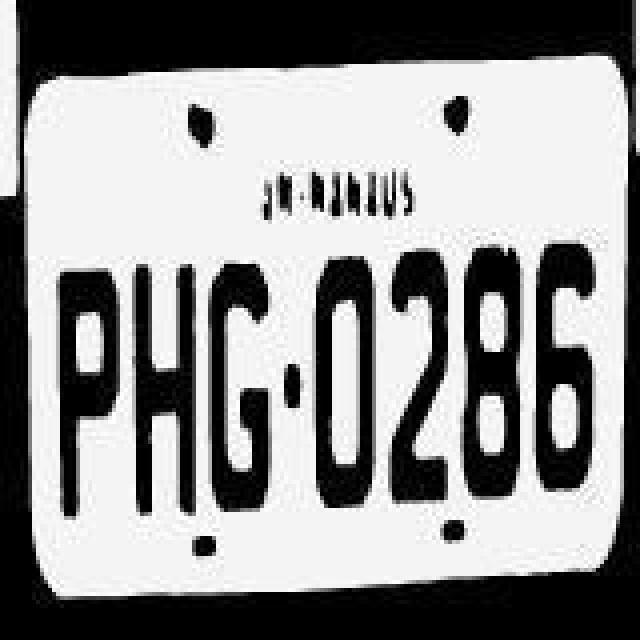2: (380, 234, 452, 518)
6: (534, 230, 602, 514)
8: (458, 232, 526, 512)
G: (196, 248, 268, 528)
H: (120, 248, 200, 520)
O: (306, 246, 374, 530)
P: (44, 250, 124, 526)
